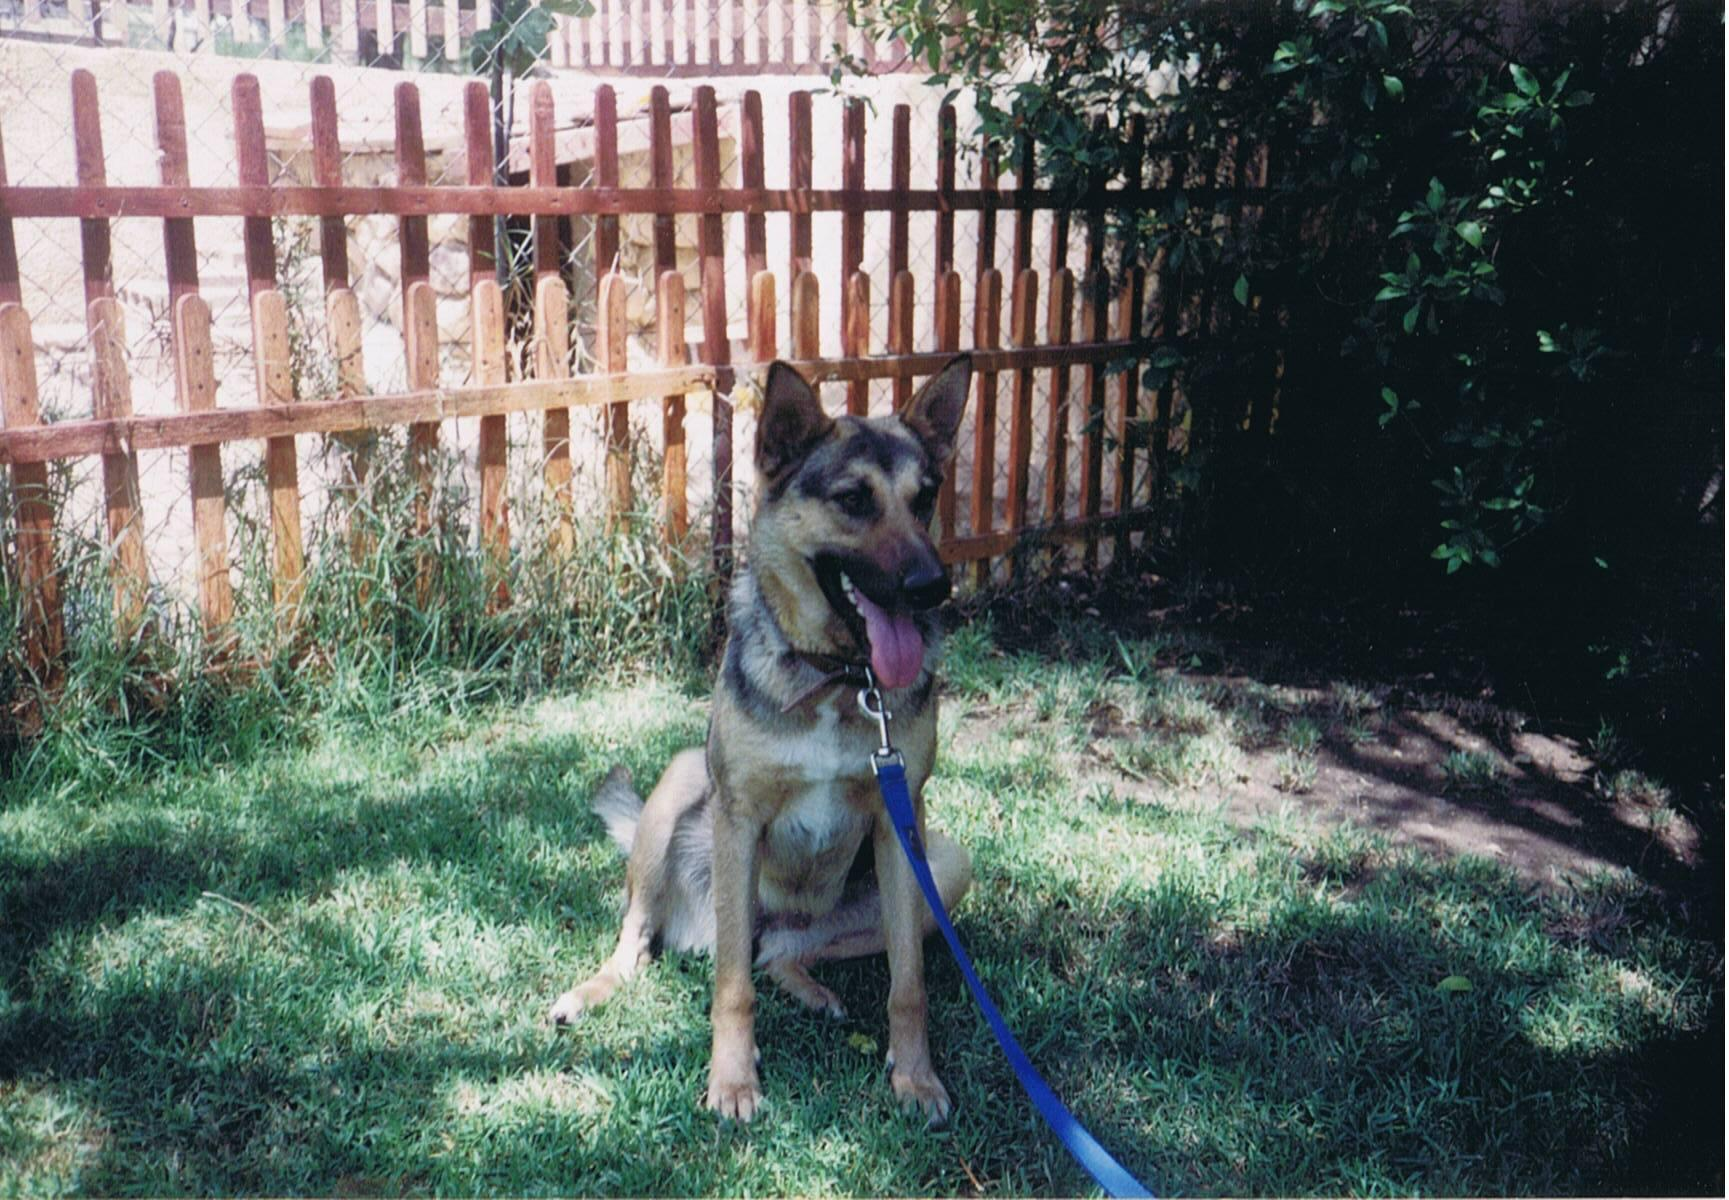German_shepherd: (543, 348, 972, 1128)
